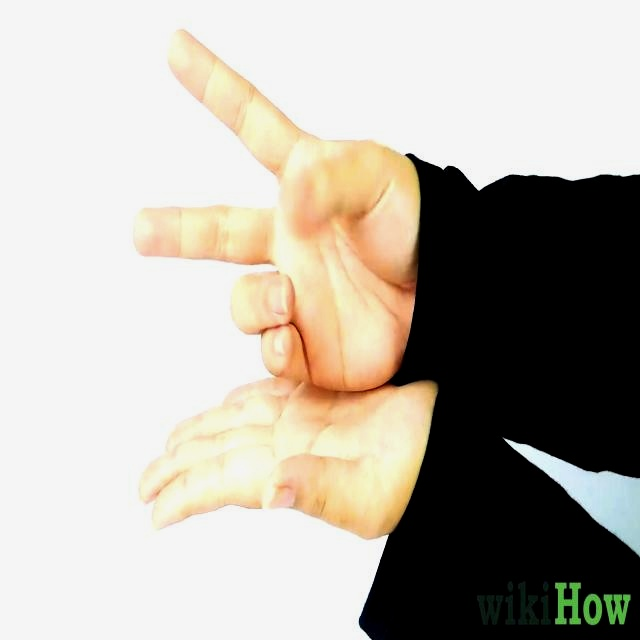Scissors: (131, 26, 421, 394)
